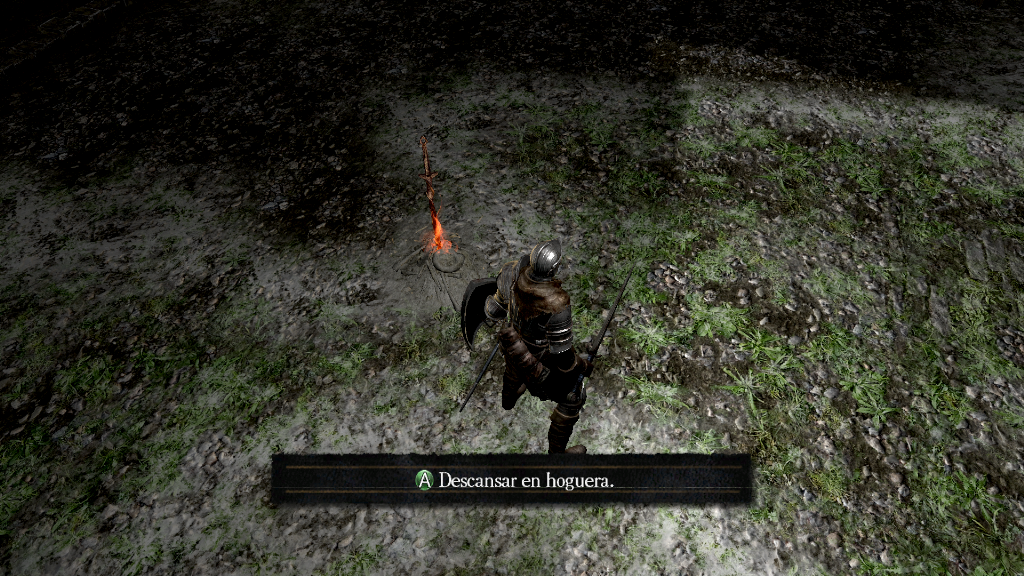bonfire: (403, 133, 466, 273)
dialogBox: (271, 456, 754, 507)
player: (458, 239, 637, 454)
